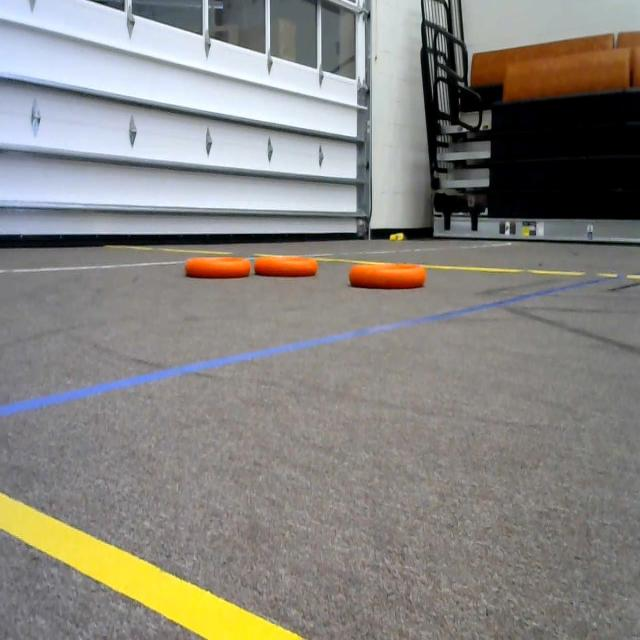note: (343, 249, 438, 297), (182, 243, 257, 298), (252, 245, 330, 286)
